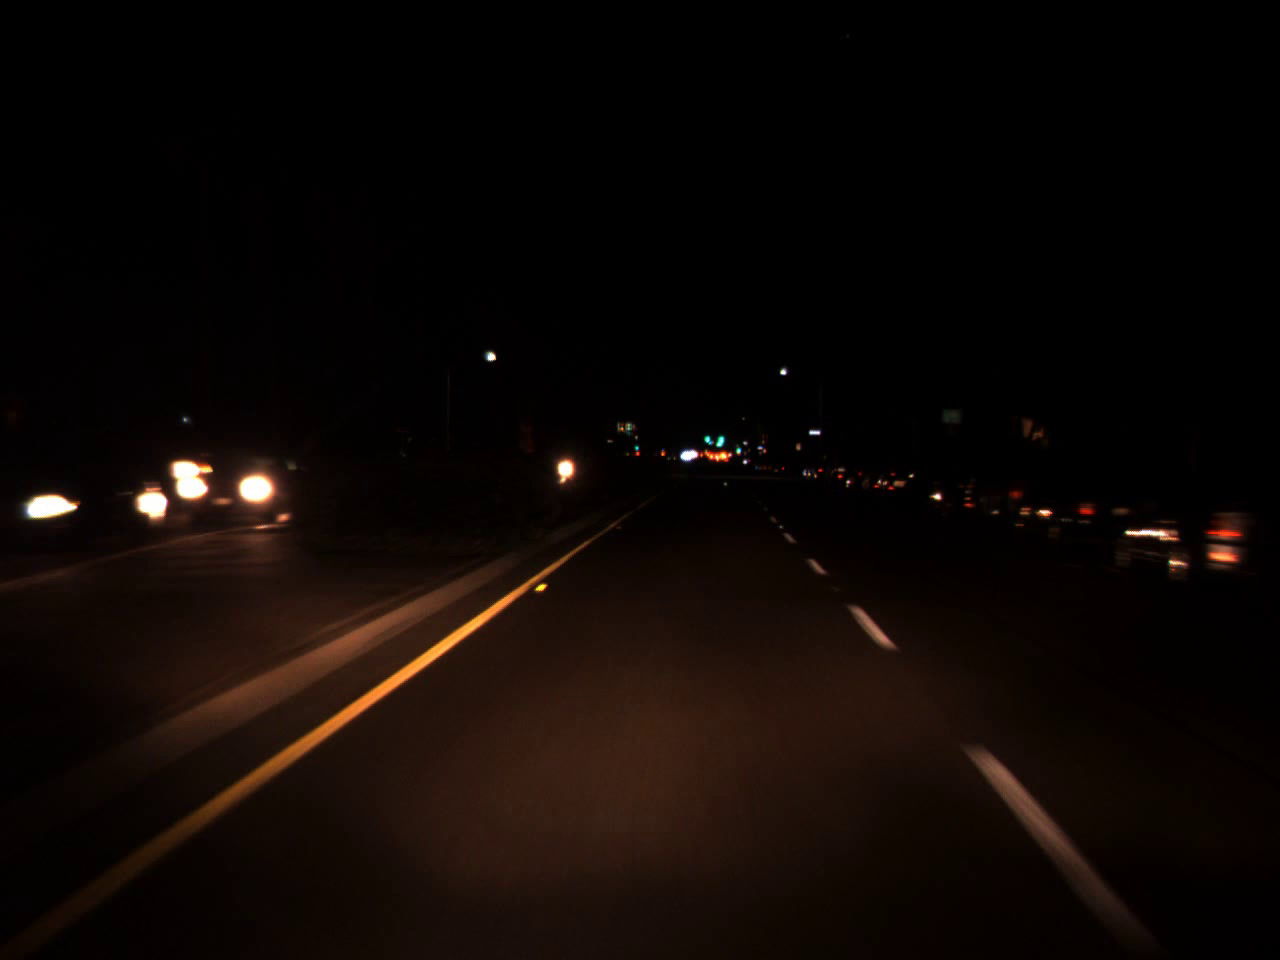go: (713, 423, 725, 450), (703, 431, 710, 443)
